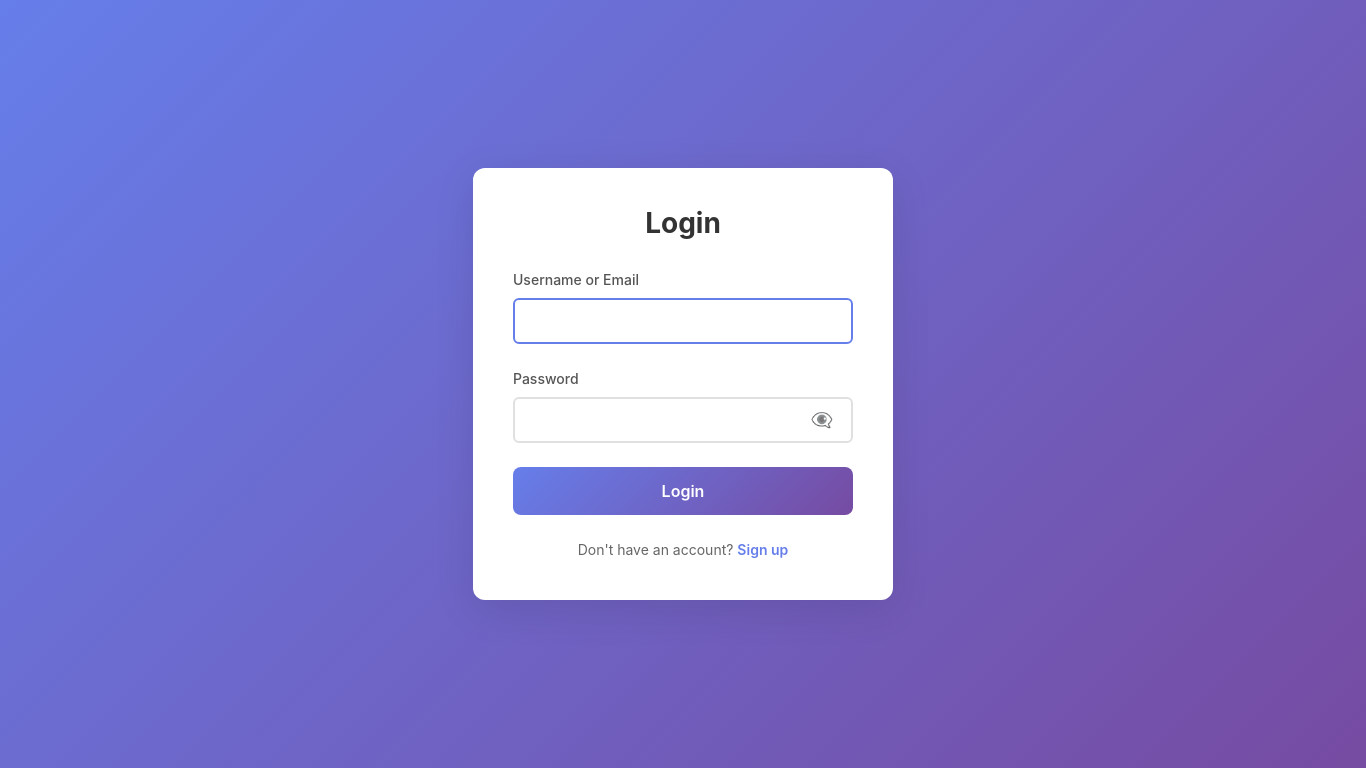
Test: Login Component › Error Handling › displays generic error message when detail is missing
Type "testuser" into the field labelled "Username or Email" at (683, 321), box [513,298,853,344]
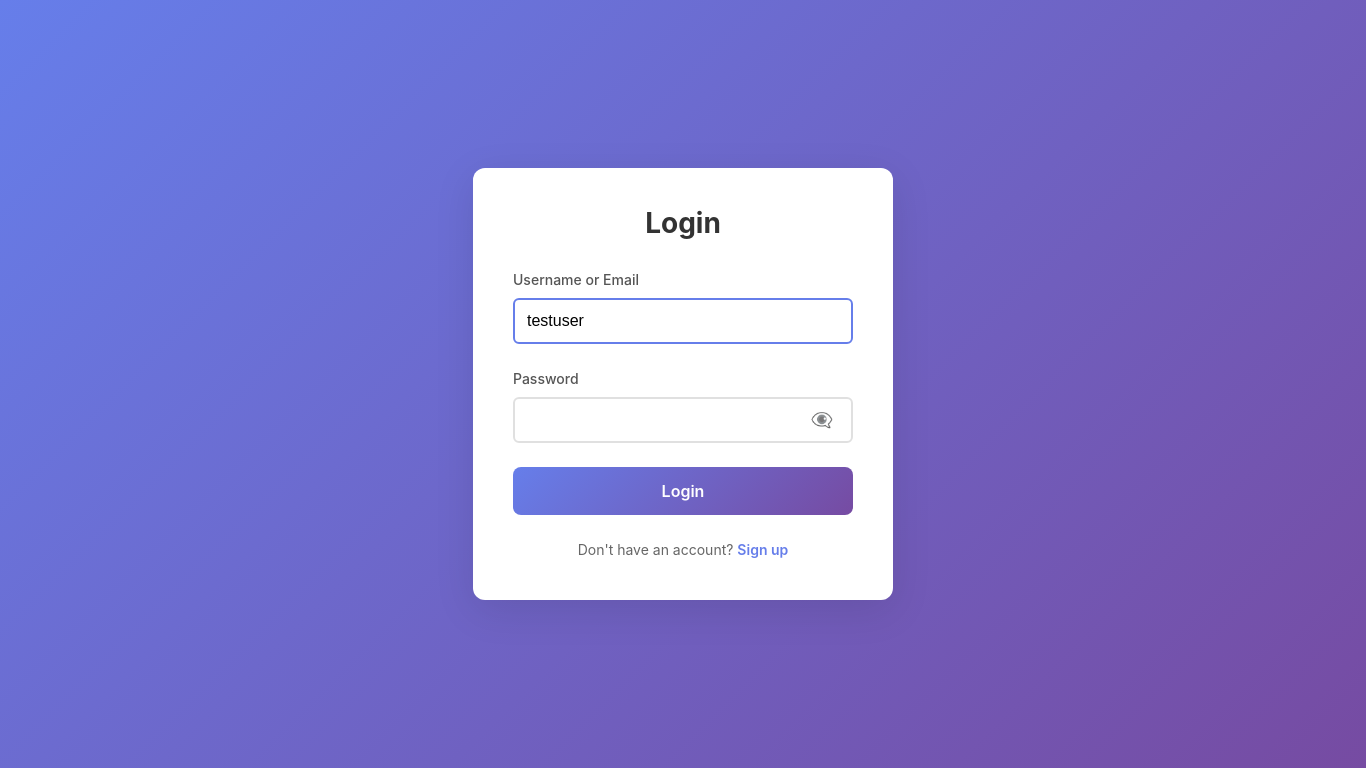
Type "password123" into the password field labelled "Password" at (683, 420), box [513,397,853,443]
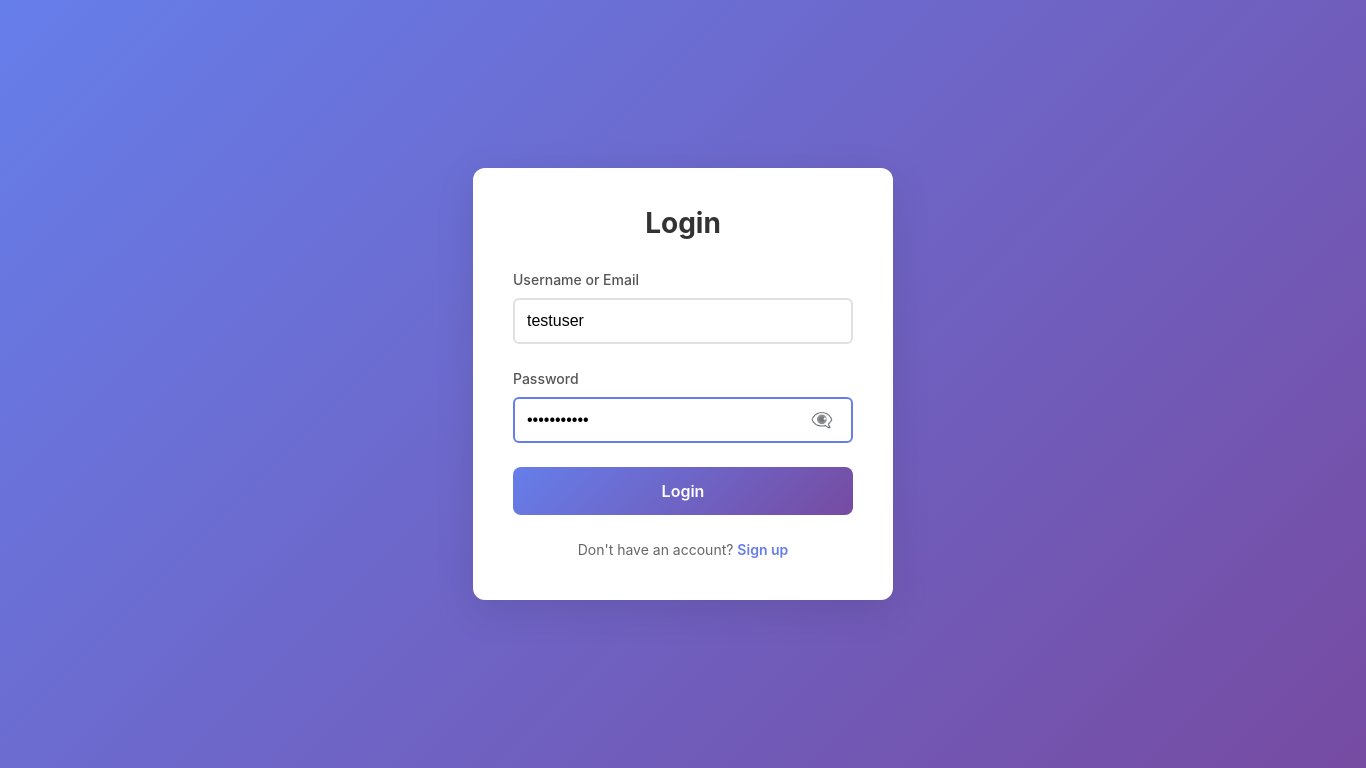
Click the button "Login" at (683, 491), box [513,467,853,515]
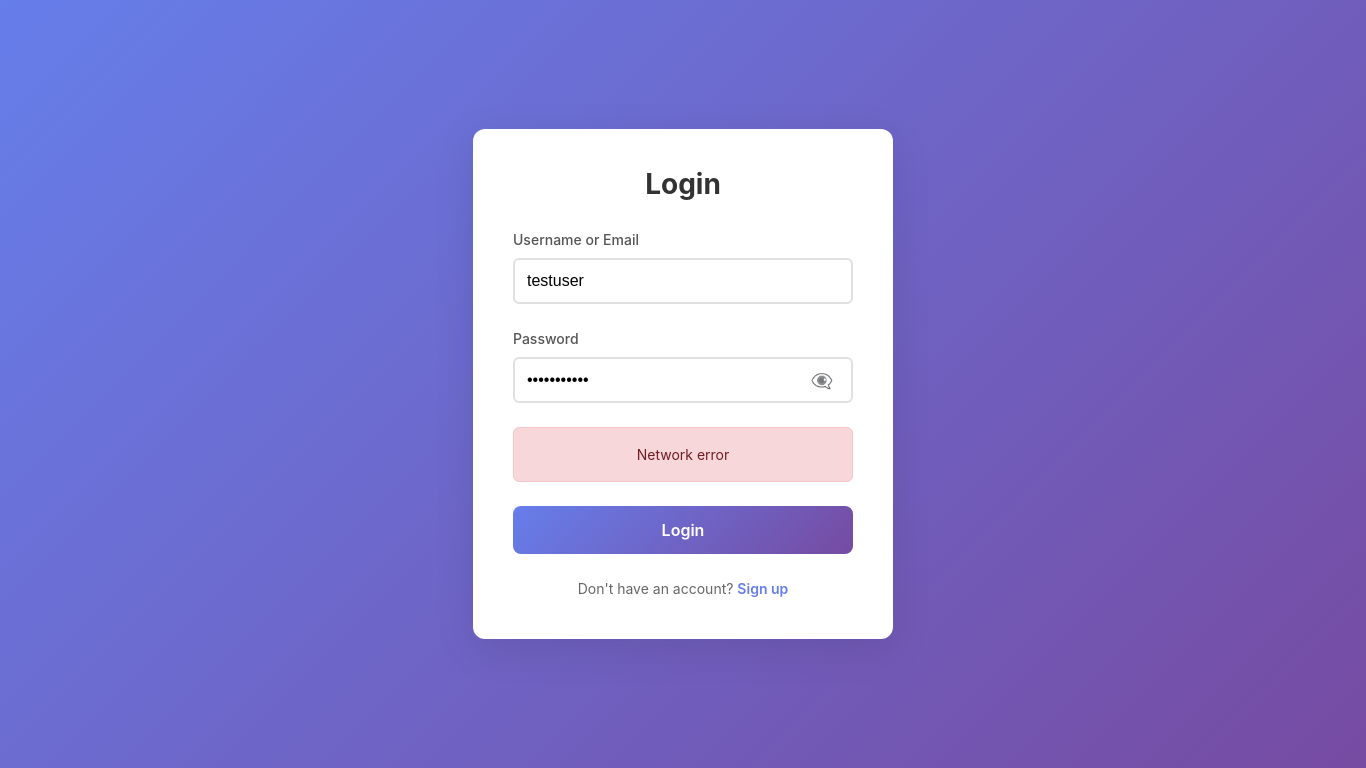
expect the text "Network error" is shown: met, box [513,427,853,482]
